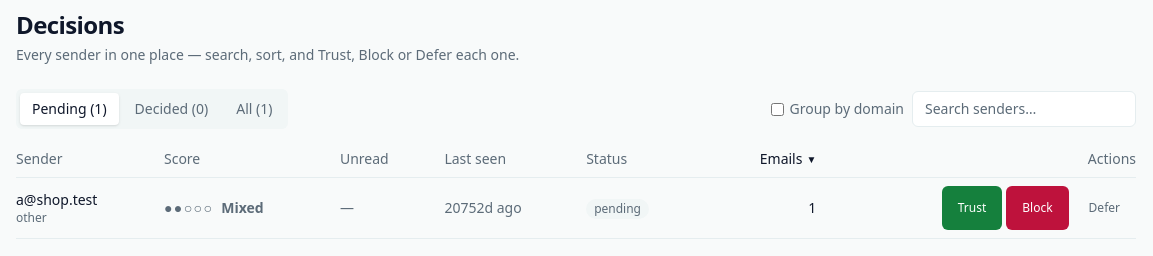
Test: Dashboard — group by domain › tab counts reflect domains (not senders) when grouped
Click the checkbox labelled "Group by domain". click: (777,109)
box: 770,102 -> 784,116
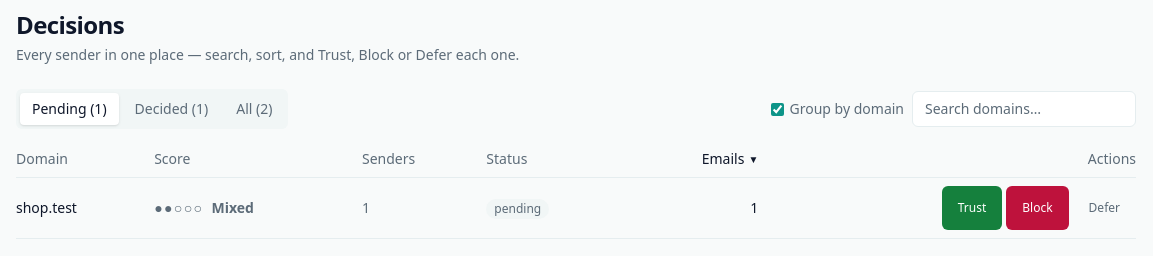
Expected: the tab "pending (1)" is shown, 20,93 -> 119,125
Expected: the tab "decided (1)" is shown, 123,93 -> 220,125
Expected: the tab "all (2)" is shown, 224,93 -> 284,125
